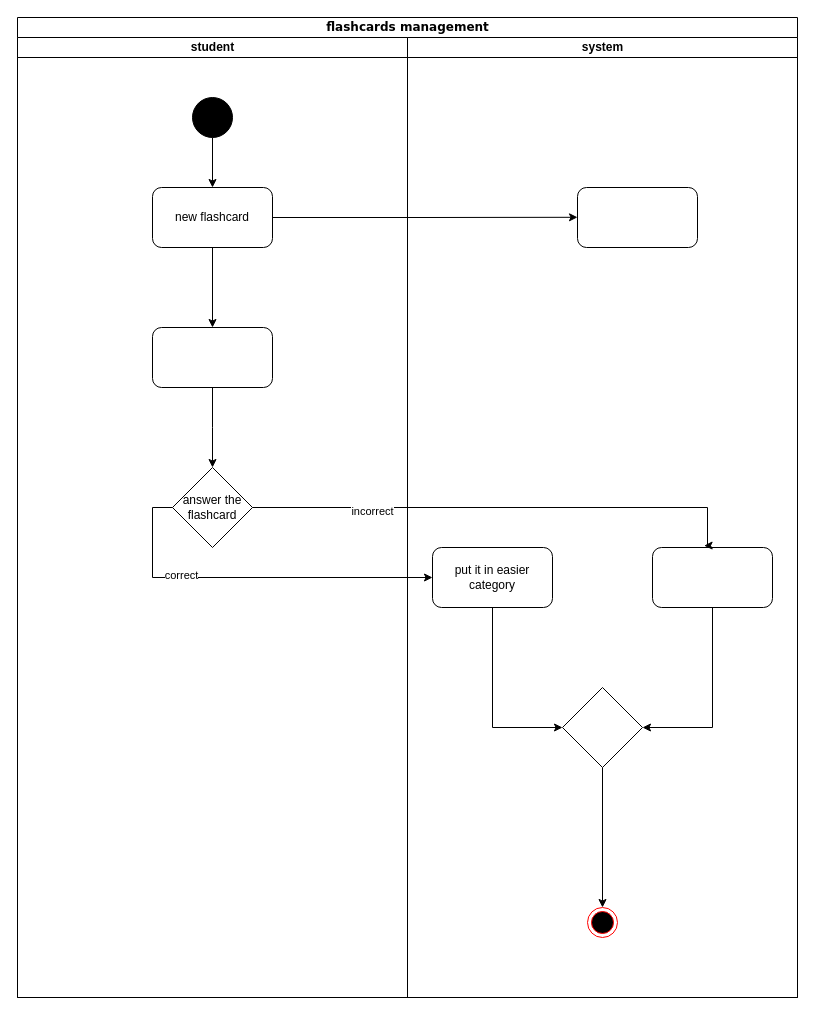
Some shapes in this 815 by 1015 pixel diagram are drawn without their labels. Each missing label, with the centre of its shape:
add the question and answer: (212,357)
insert it in the new category: (637,217)
put it in harder category: (712,577)
